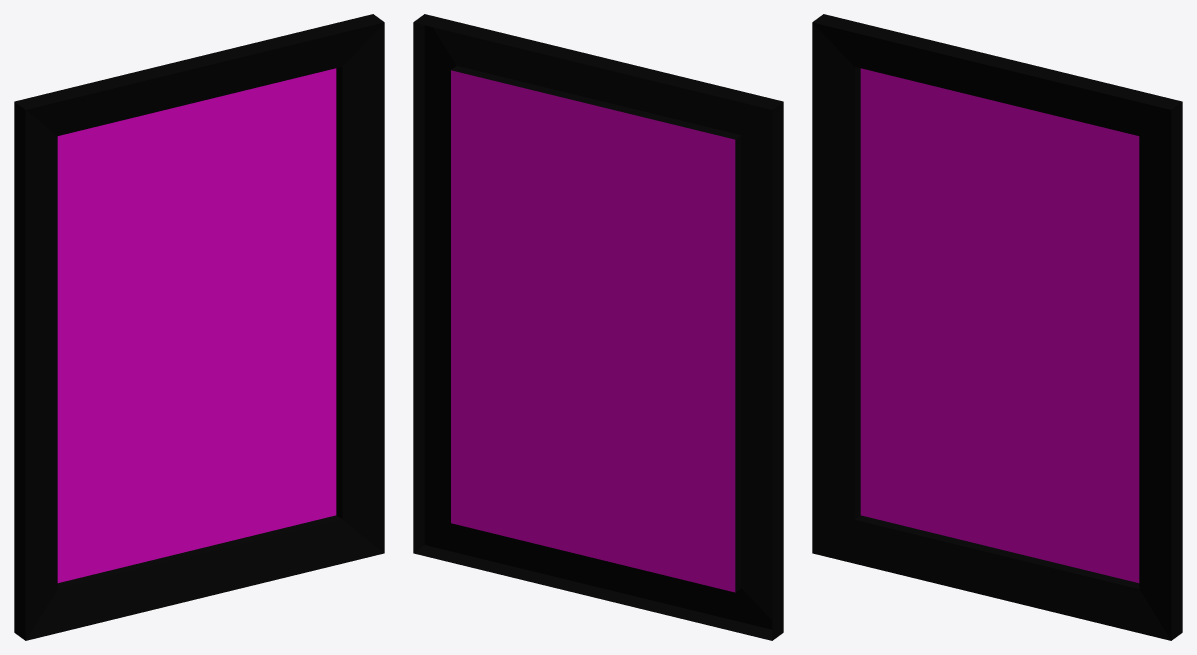
File: FrameRect_1.fbx
3 views of the same model, side by side, from view 1: azimuth 30°, elevation 25°; view 2: azimuth 150°, elevation 25°; view 3: azimuth 330°, elevation 25° (orthographic).
Visible parts, largest first — view 1: Cube; view 2: Cube; view 3: Cube.
Boxes of the visible parts, <box> form: Cube: <box>14,14,384,640</box>; Cube: <box>413,14,783,640</box>; Cube: <box>812,14,1182,640</box>.
Size of the model in its own units: 117 by 165 by 6.47.
